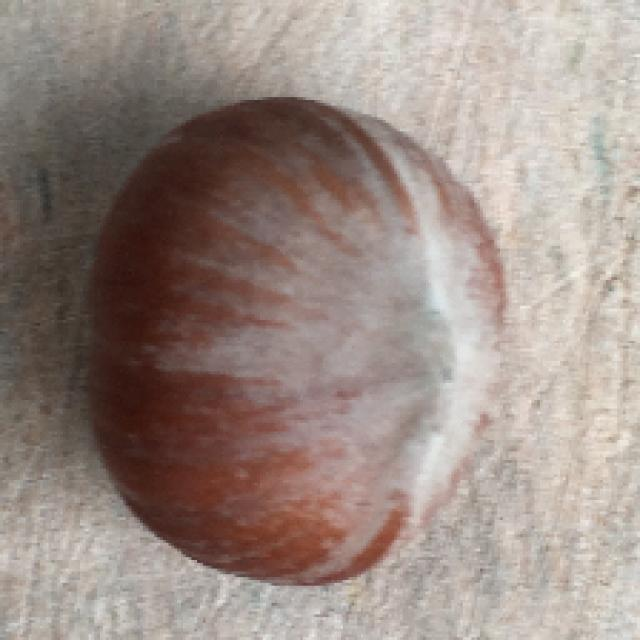qualityHazelnut: (82, 93, 508, 590)
